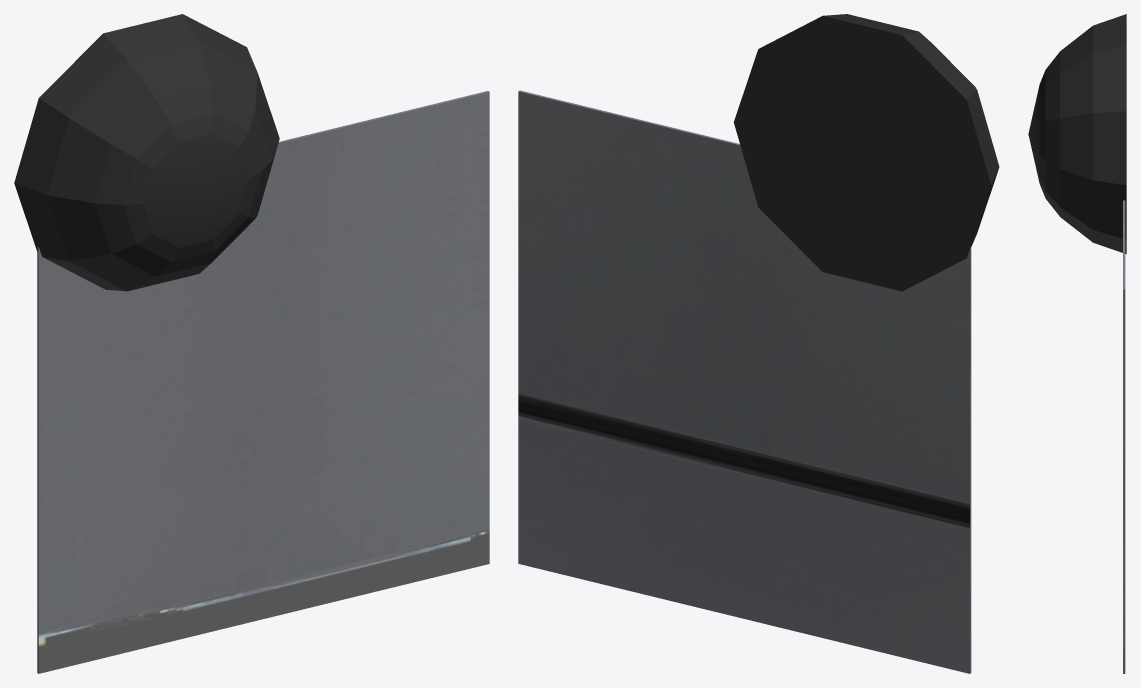
Rendered from StickyNote.fbx.
3 renders of one model, left to right at view 1: azimuth 30°, elevation 25°; view 2: azimuth 150°, elevation 25°; view 3: azimuth 270°, elevation 25°, orthographic. The views are drawn at different scales.
Visible parts, largest first — view 1: StickyNote, Magnet; view 2: StickyNote, Magnet; view 3: Magnet, StickyNote.
Part boxes in pixels (x1,y1,x2,y2): StickyNote: (37,91,489,673); Magnet: (14,14,279,291); StickyNote: (518,90,971,673); Magnet: (733,14,999,291); Magnet: (1028,14,1126,254); StickyNote: (1123,200,1125,673).
Bounding box in the file's own units: 0.1936 × 0.2434 × 0.0427.
Materials: 2 (1 with a texture image).
